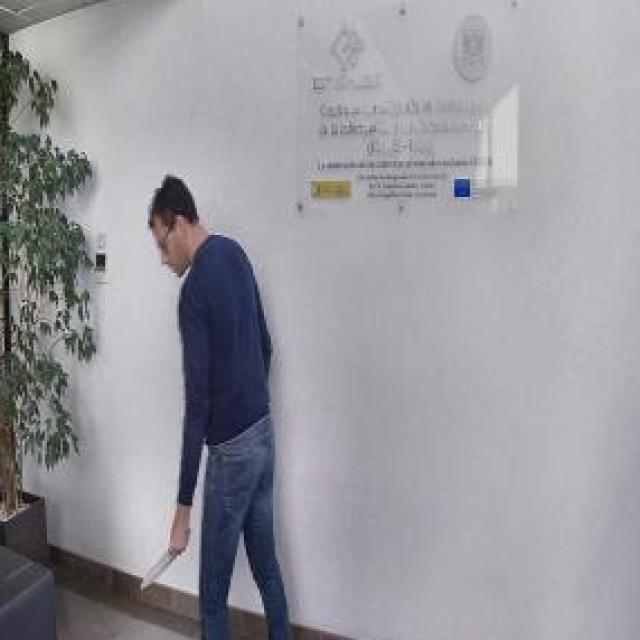knife: (136, 524, 194, 596)
